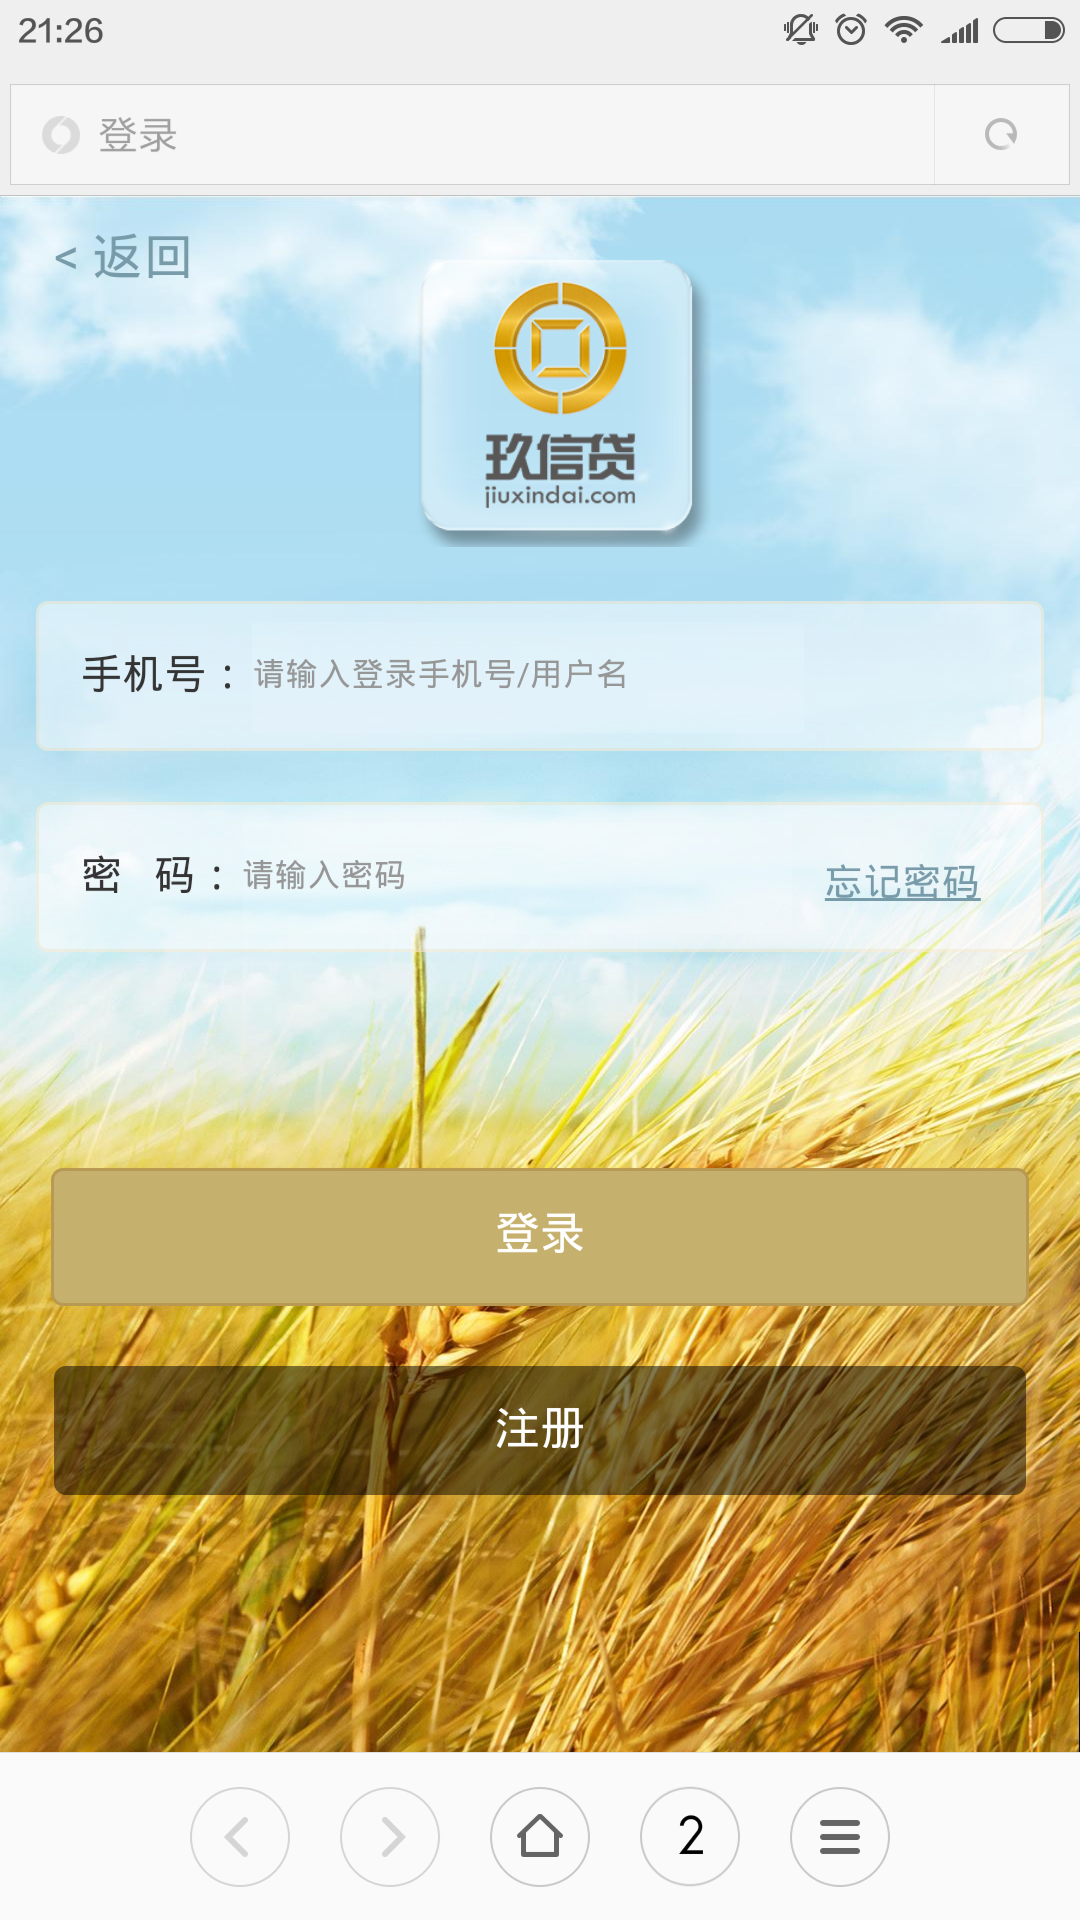button: (33, 1145, 1039, 1313), (40, 1352, 1039, 1516), (32, 219, 228, 290)
imgview: (410, 239, 713, 545)
textview: (28, 785, 1058, 984), (24, 585, 1048, 757)
